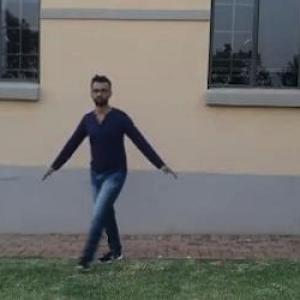land: (35, 74, 181, 266)
